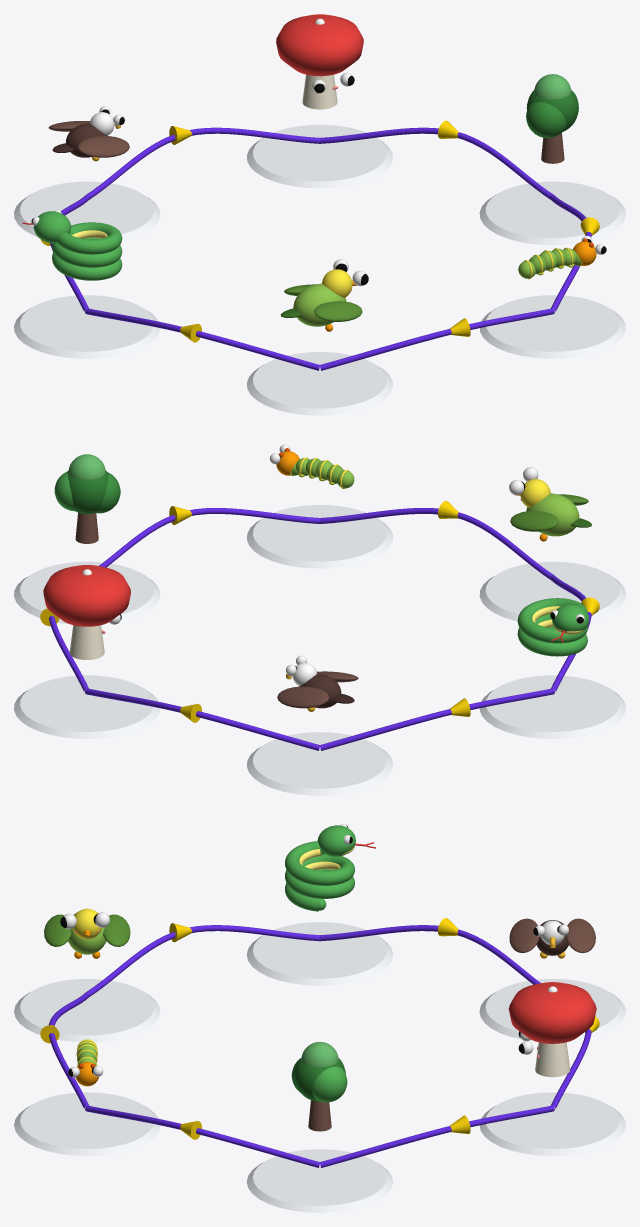
The model's file is eco_hutan_baked.glb.
3 views of the same model, one above another, from view 1: azimuth 30°, elevation 25°; view 2: azimuth 150°, elevation 25°; view 3: azimuth 270°, elevation 25° (orthographic).
Visible parts, largest first — view 1: ecosystem_preset_group, object 14; view 2: ecosystem_preset_group, object 14; view 3: ecosystem_preset_group, object 14.
Part boxes in pixels (x1,y1,x2,y2): ecosystem_preset_group: (14,14,625,415); object 14: (33,211,71,243); ecosystem_preset_group: (14,448,625,795); object 14: (552,604,589,635); ecosystem_preset_group: (14,841,625,1212); object 14: (317,825,355,856).
Size of the model in its own units: 5.6 by 1.25 by 5.01.
